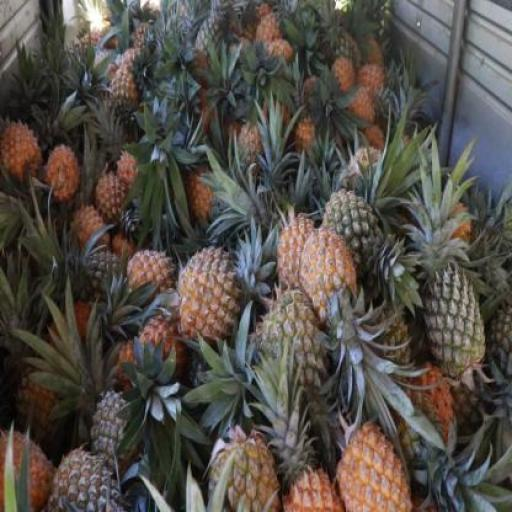------------------------------: (252, 293, 320, 393), (320, 188, 384, 287), (15, 375, 66, 450), (108, 71, 141, 130)
Pineapple - v8 v1: (332, 422, 412, 511), (300, 226, 361, 328), (178, 250, 242, 344), (0, 432, 57, 512), (275, 215, 324, 304), (136, 318, 182, 397), (127, 251, 170, 308), (3, 124, 41, 184), (96, 171, 134, 225), (47, 146, 76, 204)
